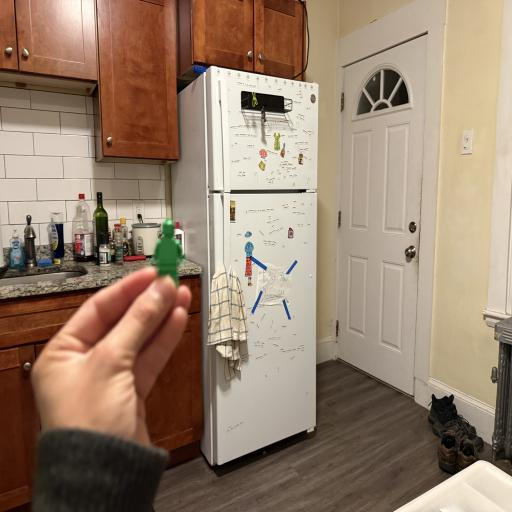Minifig: (154, 219, 182, 286)
